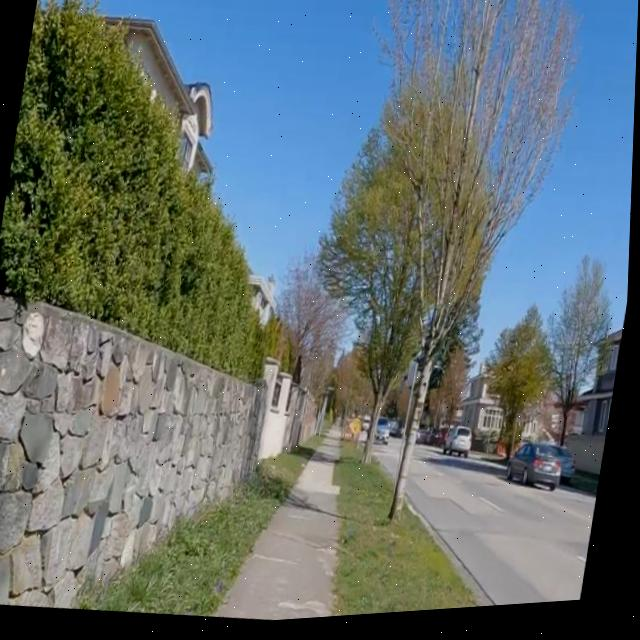Automobile: (511, 450, 563, 498), (448, 432, 473, 463), (559, 452, 578, 491), (378, 423, 391, 450)
Obstacle: (82, 461, 301, 620), (338, 449, 482, 621), (394, 385, 425, 525), (264, 440, 325, 492), (365, 427, 378, 468), (347, 421, 364, 443)
Road: (410, 451, 600, 614), (378, 445, 404, 490)
Sidewalk: (218, 439, 344, 624)
